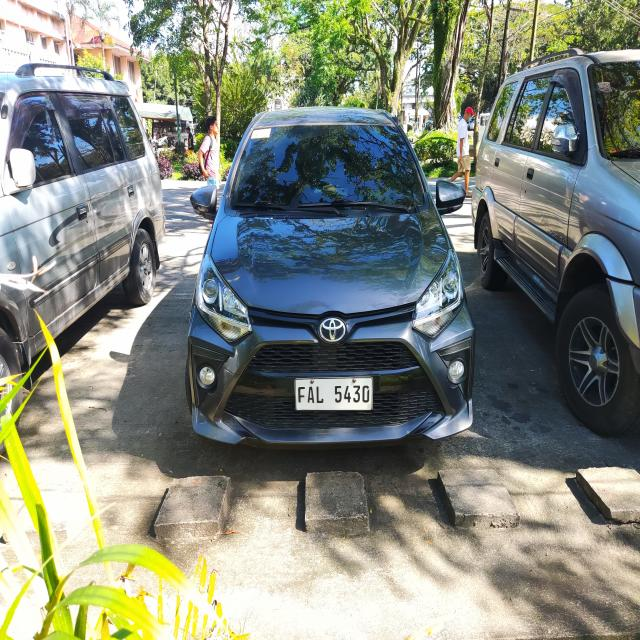plate: (293, 375, 375, 413)
